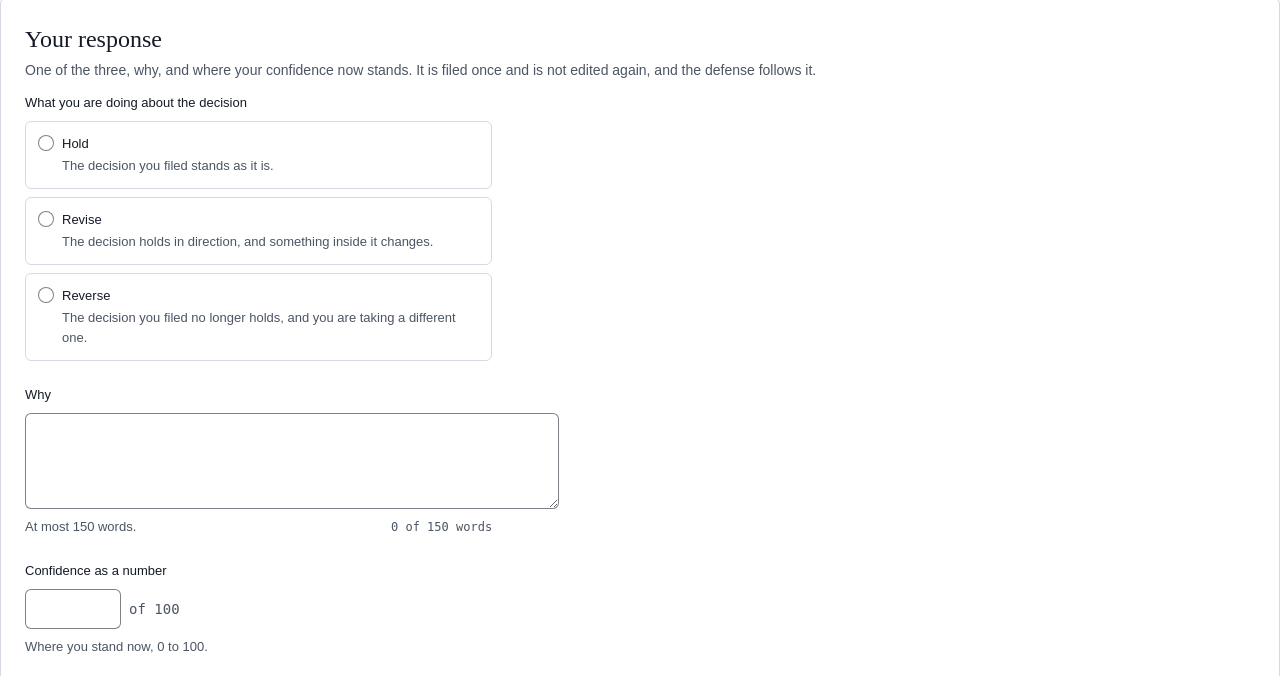
Test: TurnPanel drafts › keeps the draft when the response is refused, because nothing was filed
Click the radio button named "Revise" next to "Revise": [46, 219] box [38,211,54,227]
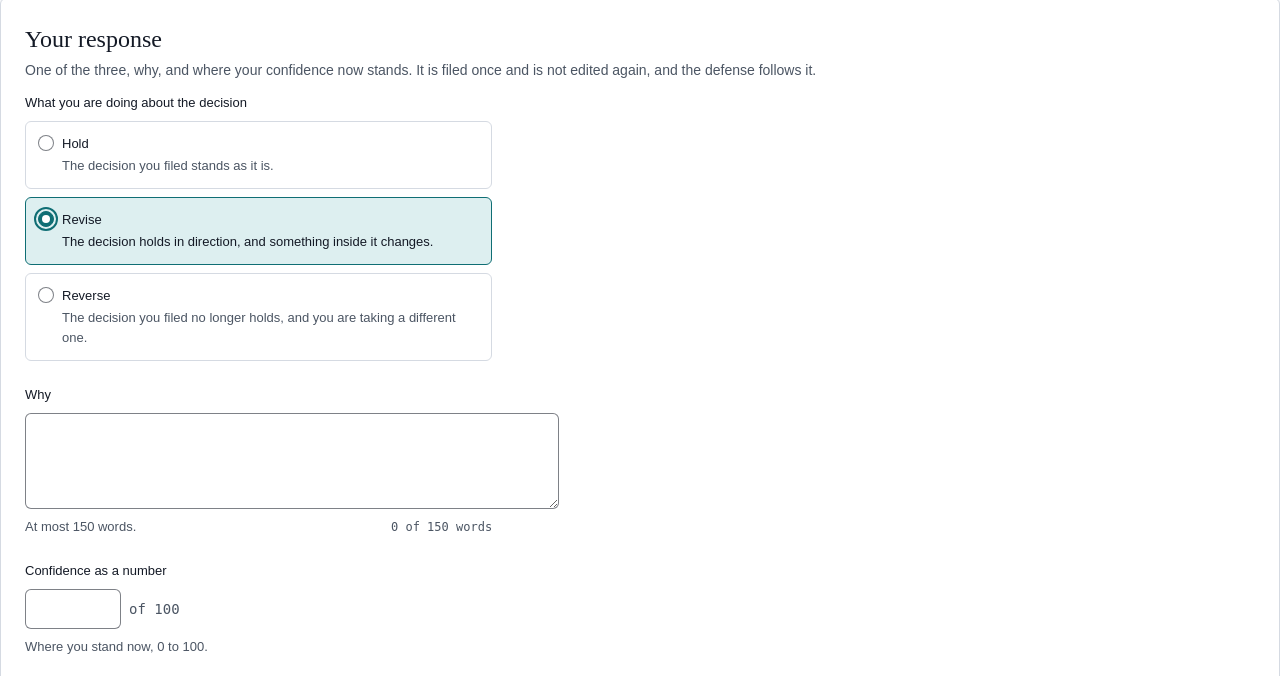
In the text box labelled "Why": [292, 461] box [25,413,559,509], type "The retention figure the payback rested on has been corrected, so the share moves."
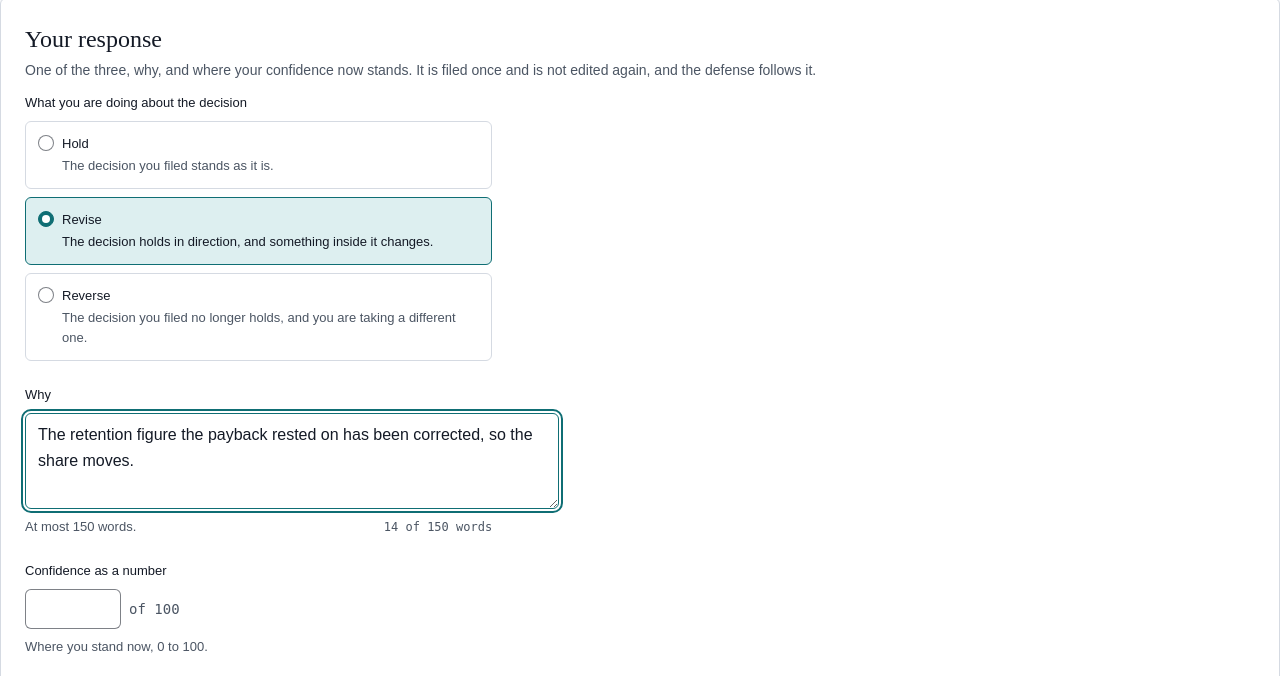
In the field labelled "Confidence as a number": [73, 609] box [25,589,121,629], type "48"
(page scrolled)
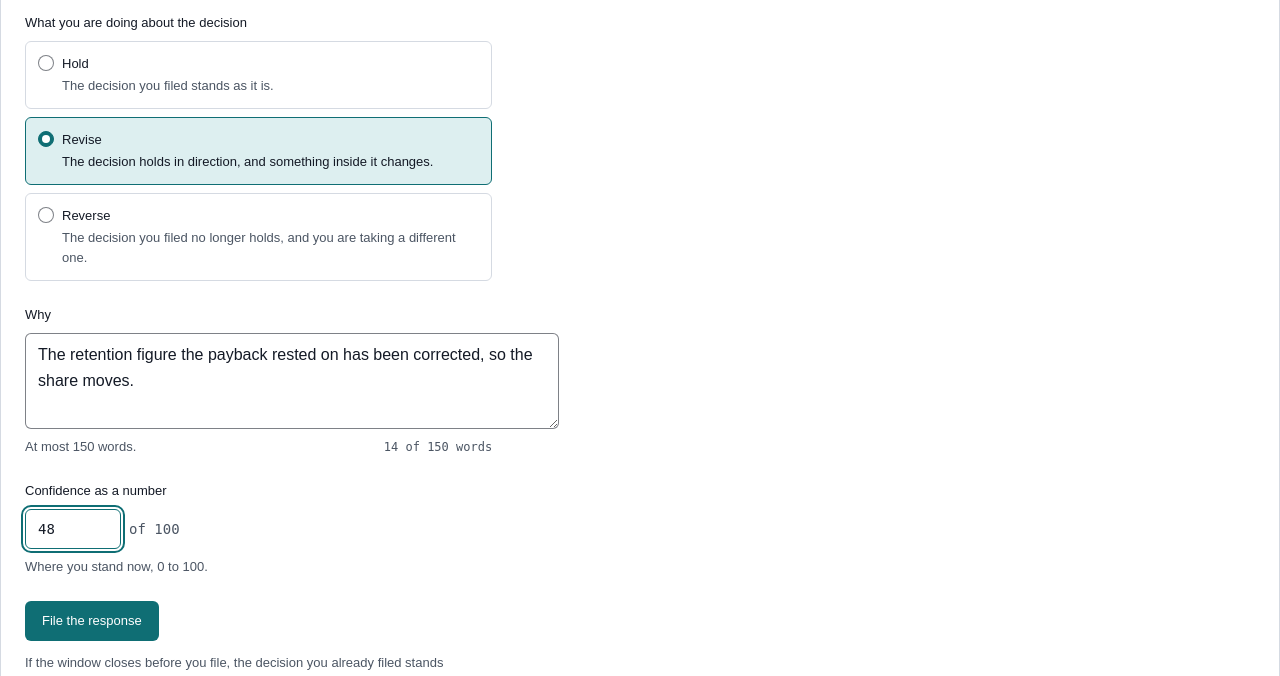
Click the button "File the response": [92, 621] box [25,601,159,641]
(page scrolled)
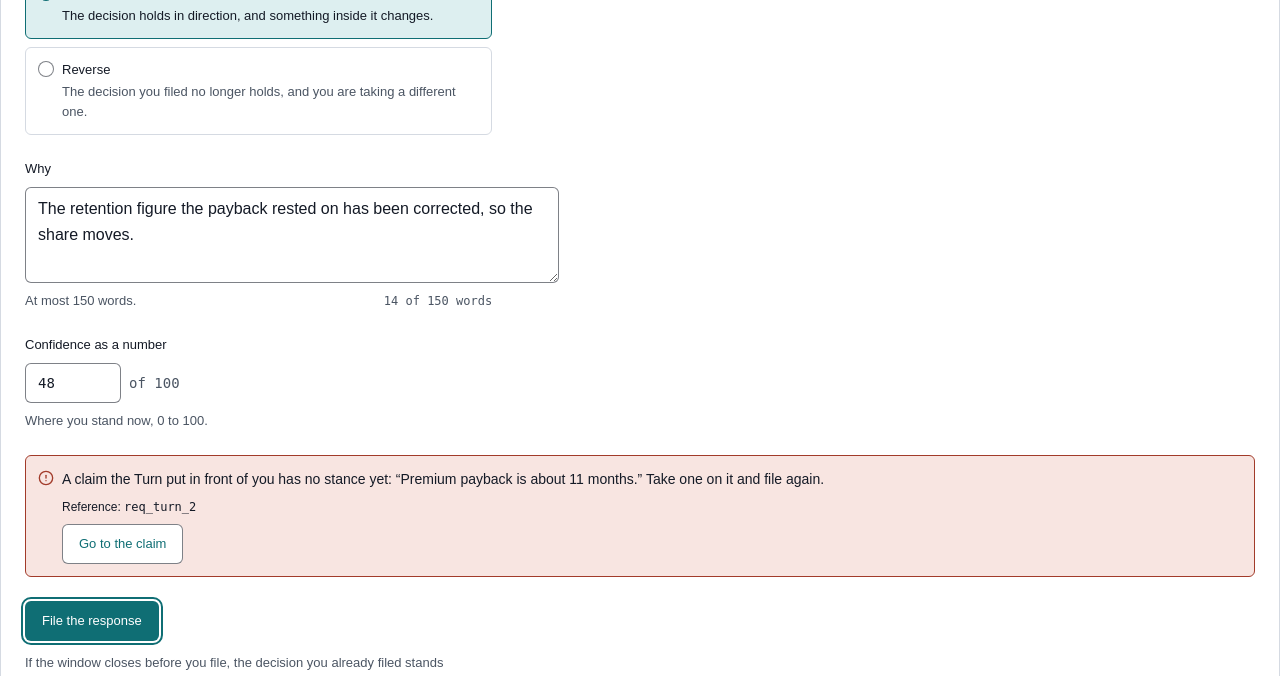
Check: the message is shown, box [25,455,1255,577]
